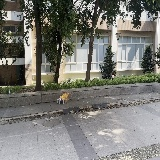fire: (61, 92, 70, 102)
